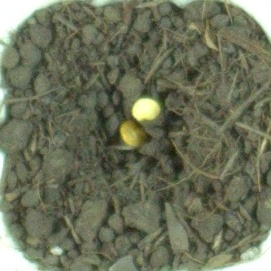pepper seed: (42, 46, 194, 194), (49, 36, 212, 158)
